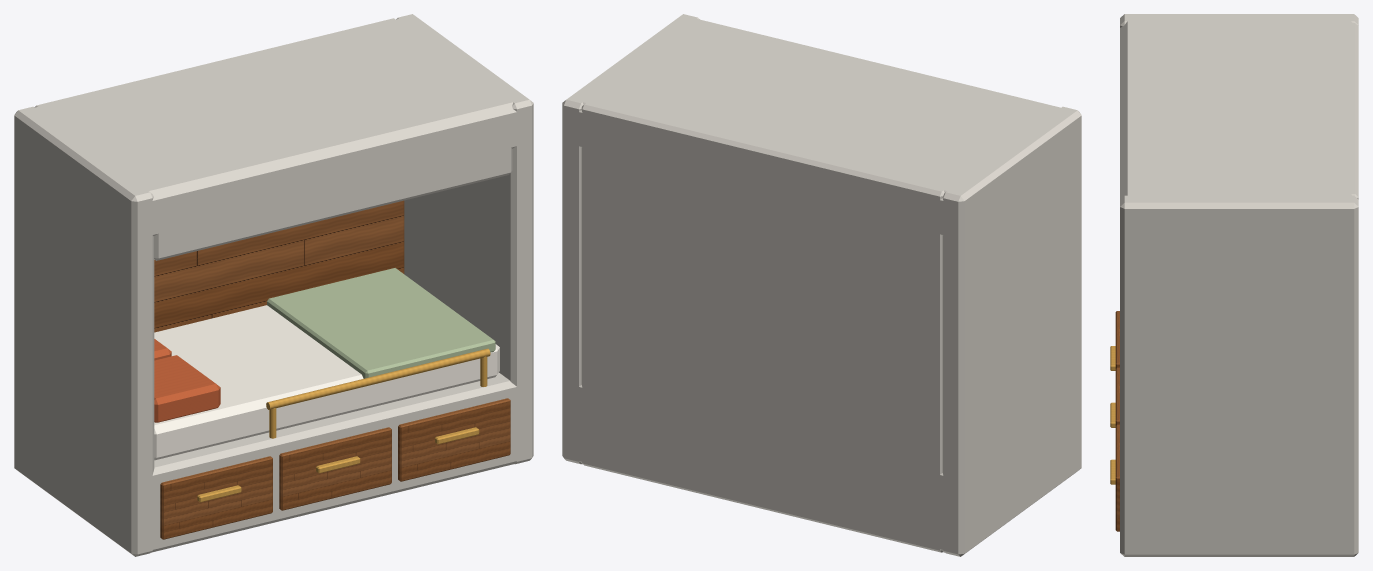
Rendered from bunk_bed.glb.
3 views of the same model, side by side, from view 1: azimuth 30°, elevation 25°; view 2: azimuth 150°, elevation 25°; view 3: azimuth 270°, elevation 25° (orthographic).
Visible parts, largest first — view 1: Bunk_PodAlcoveFrame, Bunk_WoodPanelingAndDrawers, Bunk_Mattress, Bunk_ThrowBlanket, Bunk_BrassHardware, Bunk_Pillows; view 2: Bunk_PodAlcoveFrame; view 3: Bunk_PodAlcoveFrame, Bunk_WoodPanelingAndDrawers, Bunk_BrassHardware.
Part boxes in pixels (bbox=[...]): Bunk_PodAlcoveFrame: bbox=[14, 14, 533, 556]; Bunk_WoodPanelingAndDrawers: bbox=[154, 200, 510, 539]; Bunk_Mattress: bbox=[154, 305, 499, 460]; Bunk_ThrowBlanket: bbox=[267, 268, 495, 378]; Bunk_BrassHardware: bbox=[197, 348, 490, 502]; Bunk_Pillows: bbox=[154, 339, 220, 422]; Bunk_PodAlcoveFrame: bbox=[562, 14, 1081, 556]; Bunk_PodAlcoveFrame: bbox=[1120, 14, 1358, 556]; Bunk_WoodPanelingAndDrawers: bbox=[1115, 311, 1119, 531]; Bunk_BrassHardware: bbox=[1110, 346, 1115, 484].
Size of the model in its own units: 2.1 by 1.8 by 1.14.
7 materials, 3 textured.
